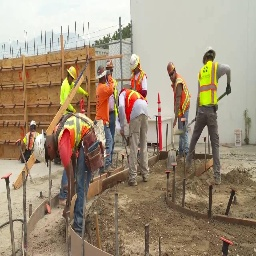helmet: (32, 128, 48, 172), (201, 42, 216, 62), (128, 52, 140, 74), (165, 59, 176, 78), (95, 64, 108, 80), (66, 64, 77, 82)
person: (34, 111, 107, 230), (192, 44, 232, 184), (118, 86, 154, 182), (165, 59, 195, 161), (92, 61, 114, 168)
vest: (196, 62, 223, 113), (54, 113, 91, 149), (119, 89, 146, 130), (171, 78, 192, 120)
